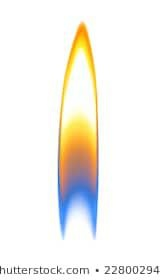fire: (52, 20, 103, 215)
